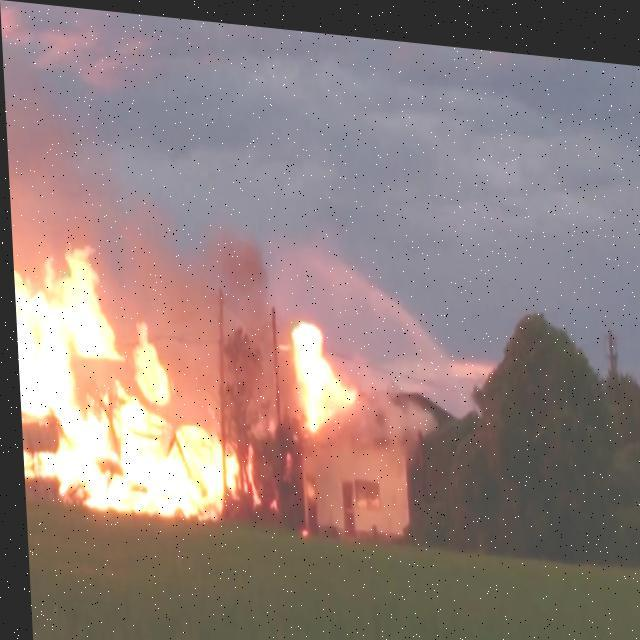Fire: (12, 236, 258, 524), (288, 312, 354, 425)
